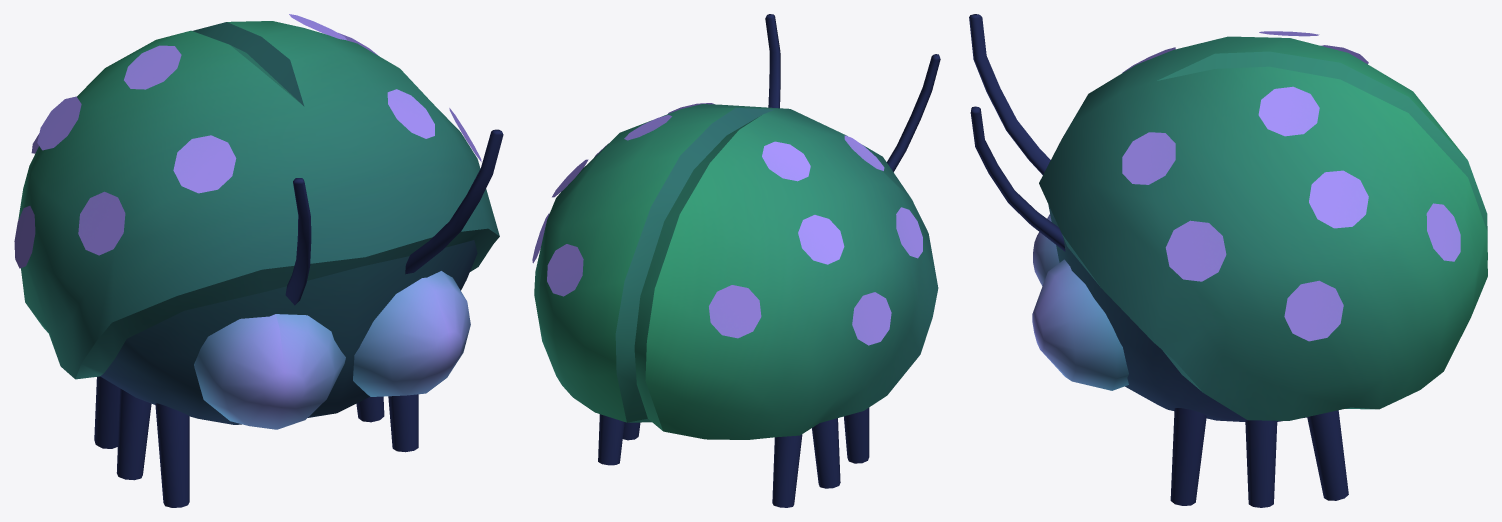
Rendered from iceBlock.fbx.
3 renders of one model, left to right at view 1: azimuth 30°, elevation 25°; view 2: azimuth 150°, elevation 25°; view 3: azimuth 270°, elevation 25°, orthographic. The views are drawn at different scales.
Visible parts, largest first — view 1: pCylinder15; view 2: pCylinder15; view 3: pCylinder15.
Part boxes in pixels (x1,y1,x2,y2): pCylinder15: (14, 14, 503, 507); pCylinder15: (532, 14, 940, 507); pCylinder15: (969, 14, 1487, 507).
Size of the model in its own units: 80.22 by 74.4 by 90.03.
